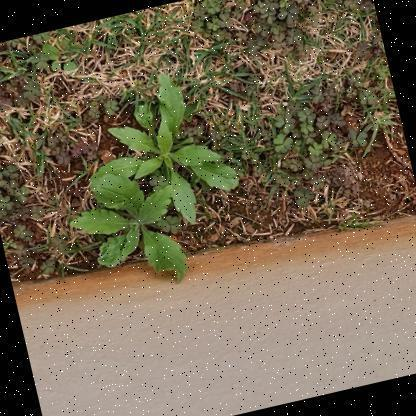Weeds: (67, 60, 247, 246), (62, 160, 193, 306)
